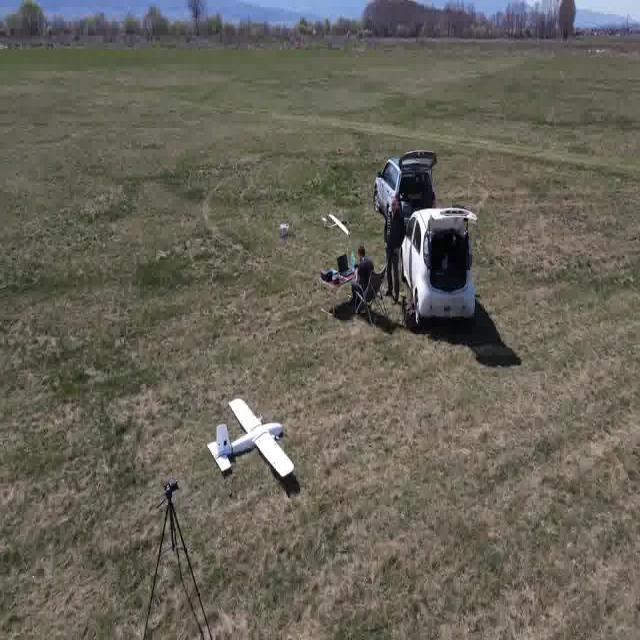iha: (238, 425, 272, 461)
